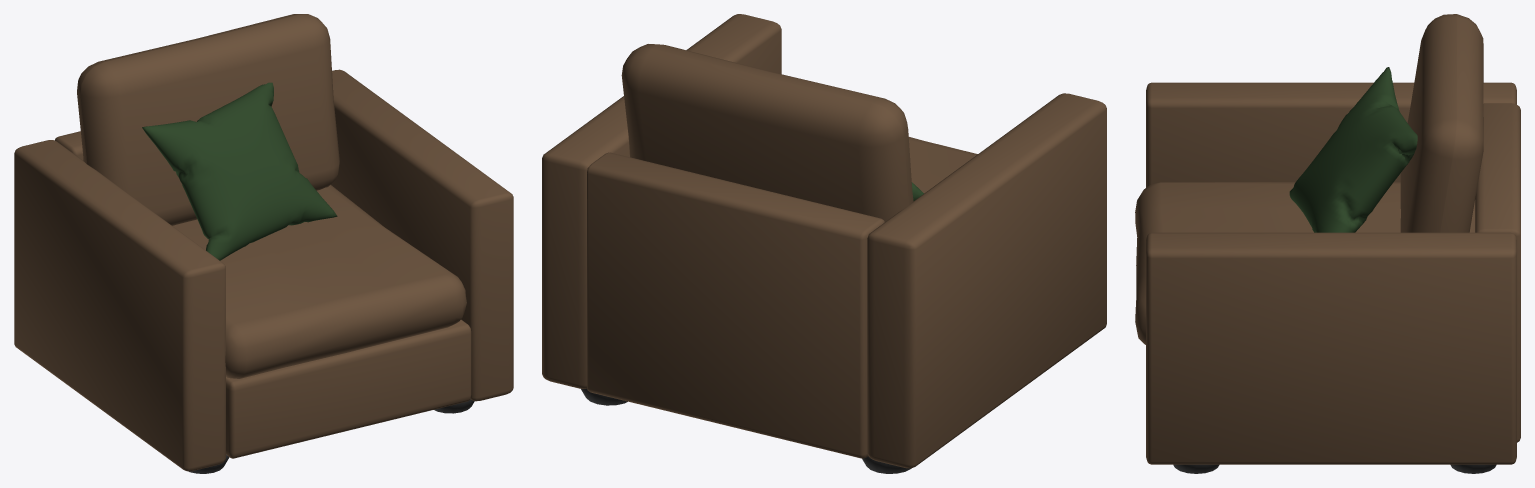
The model's file is generic armchair.fbx.
3 views of the same model, side by side, from view 1: azimuth 30°, elevation 25°; view 2: azimuth 150°, elevation 25°; view 3: azimuth 270°, elevation 25° (orthographic). The views are drawn at different scales.
Visible parts, largest first — view 1: Cube; view 2: Cube; view 3: Cube.
Boxes of the visible parts, bbox=[...] form: Cube: bbox=[14, 14, 513, 473]; Cube: bbox=[542, 14, 1106, 473]; Cube: bbox=[1135, 14, 1520, 473].
Bounding box in the file's own units: 135 × 120 × 127.
